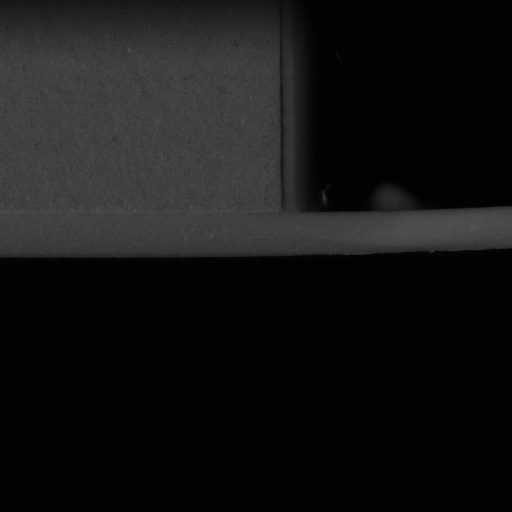changdai: (282, 204, 511, 261)
